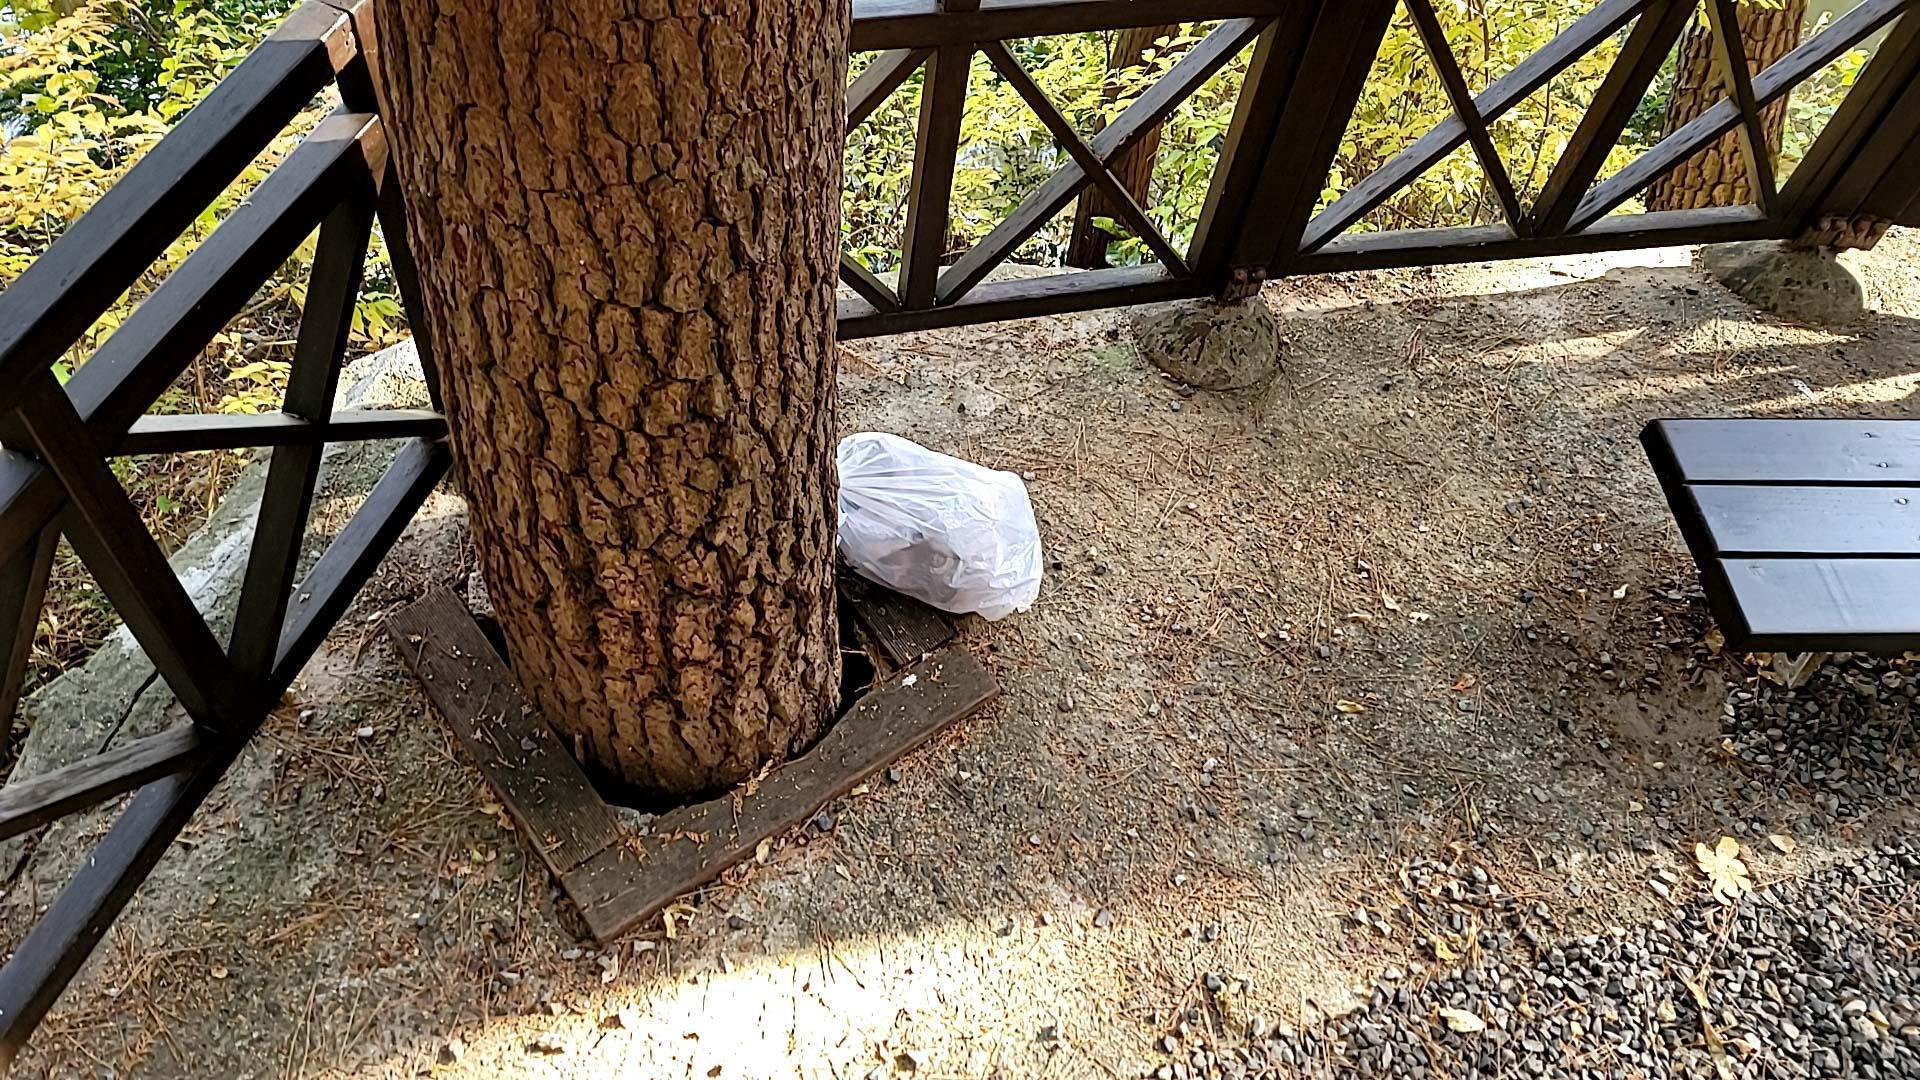white_bag: (820, 429, 1056, 632)
